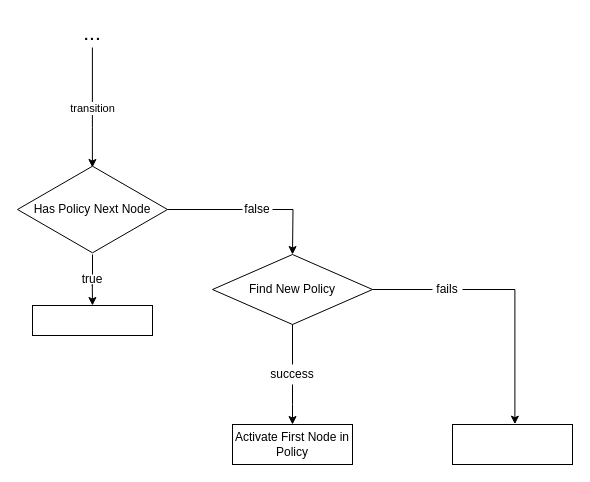
This 590x482 diagram has some shape labels left out. Each missing label, with the centre of its shape:
"Activate Next Node in Policy" goes at point 92,320.
"Idle (No Active Node)" goes at point 512,444.
